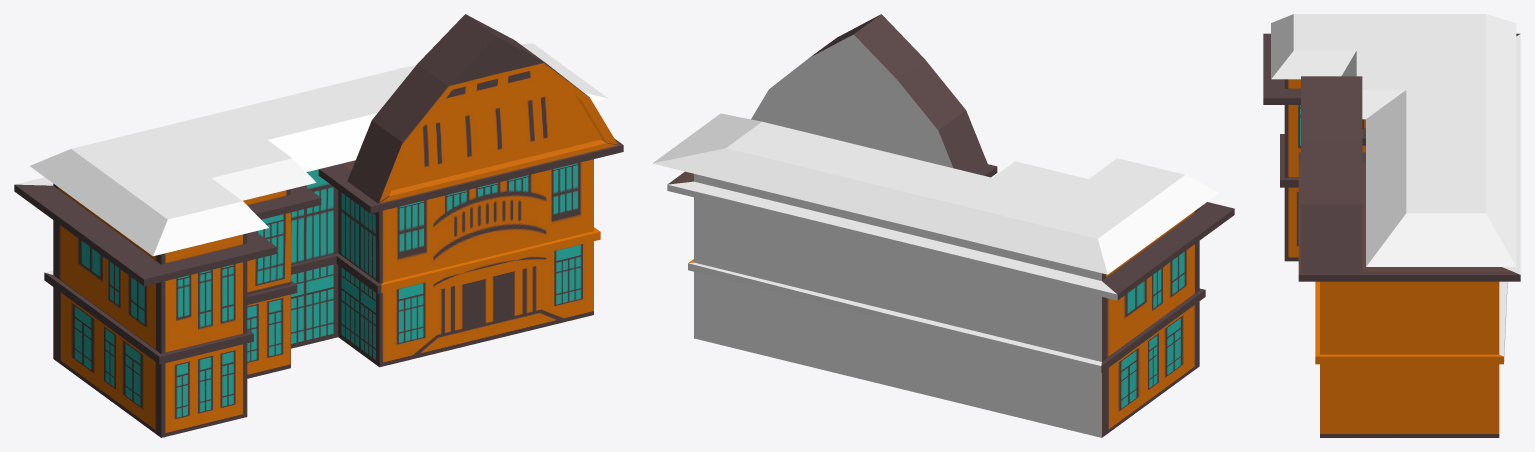
Rendered from BankThai.fbx.
3 views of the same model, side by side, from view 1: azimuth 30°, elevation 25°; view 2: azimuth 150°, elevation 25°; view 3: azimuth 270°, elevation 25° (orthographic). The views are drawn at different scales.
Visible parts, largest first — view 1: polySurface18; view 2: polySurface18; view 3: polySurface18.
Boxes of the visible parts, left/top/right/bottom form: polySurface18: left=14, top=14, right=623, bottom=437; polySurface18: left=652, top=14, right=1234, bottom=437; polySurface18: left=1263, top=14, right=1520, bottom=437.
Bounding box in the file's own units: 6.48 × 3.74 × 2.82.
